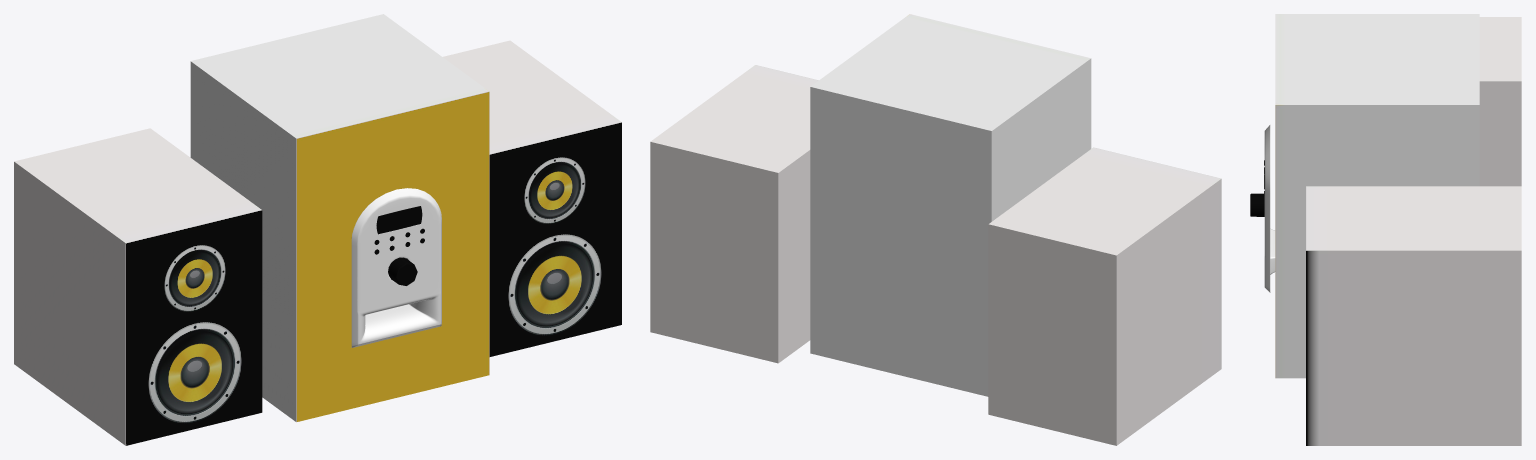
File: radio.fbx
The picture shows the model from 3 angles, left to right: view 1: azimuth 30°, elevation 25°; view 2: azimuth 150°, elevation 25°; view 3: azimuth 270°, elevation 25°; orthographic projection. The views are drawn at different scales.
Visible parts, largest first — view 1: radio3:pCube1, radio3:pCube3, radio3:speakers_obj:pCube3, radio3:speakers_obj:sub_panel, radio3:speakers_obj:sub_panel_glass, radio3:speakers_obj:sub_panel_potenciometer; view 2: radio3:pCube1, radio3:pCube3, radio3:speakers_obj:pCube3; view 3: radio3:speakers_obj:pCube3, radio3:pCube1, radio3:pCube3, radio3:speakers_obj:sub_panel, radio3:speakers_obj:sub_panel_potenciometer.
Boxes of the visible parts, x1=… form: radio3:pCube1: x1=190, y1=14, x2=489, y2=422; radio3:pCube3: x1=14, y1=128, x2=262, y2=445; radio3:speakers_obj:pCube3: x1=443, y1=40, x2=621, y2=356; radio3:speakers_obj:sub_panel: x1=351, y1=188, x2=441, y2=347; radio3:speakers_obj:sub_panel_glass: x1=376, y1=206, x2=422, y2=234; radio3:speakers_obj:sub_panel_potenciometer: x1=388, y1=257, x2=417, y2=285; radio3:pCube1: x1=810, y1=14, x2=1091, y2=396; radio3:pCube3: x1=988, y1=147, x2=1221, y2=445; radio3:speakers_obj:pCube3: x1=650, y1=65, x2=818, y2=363; radio3:speakers_obj:pCube3: x1=1306, y1=186, x2=1521, y2=445; radio3:pCube1: x1=1275, y1=14, x2=1479, y2=378; radio3:pCube3: x1=1479, y1=17, x2=1521, y2=186; radio3:speakers_obj:sub_panel: x1=1264, y1=125, x2=1275, y2=292; radio3:speakers_obj:sub_panel_potenciometer: x1=1250, y1=193, x2=1264, y2=216.
Size of the model in its own units: 6.72 by 3.67 by 3.3.
